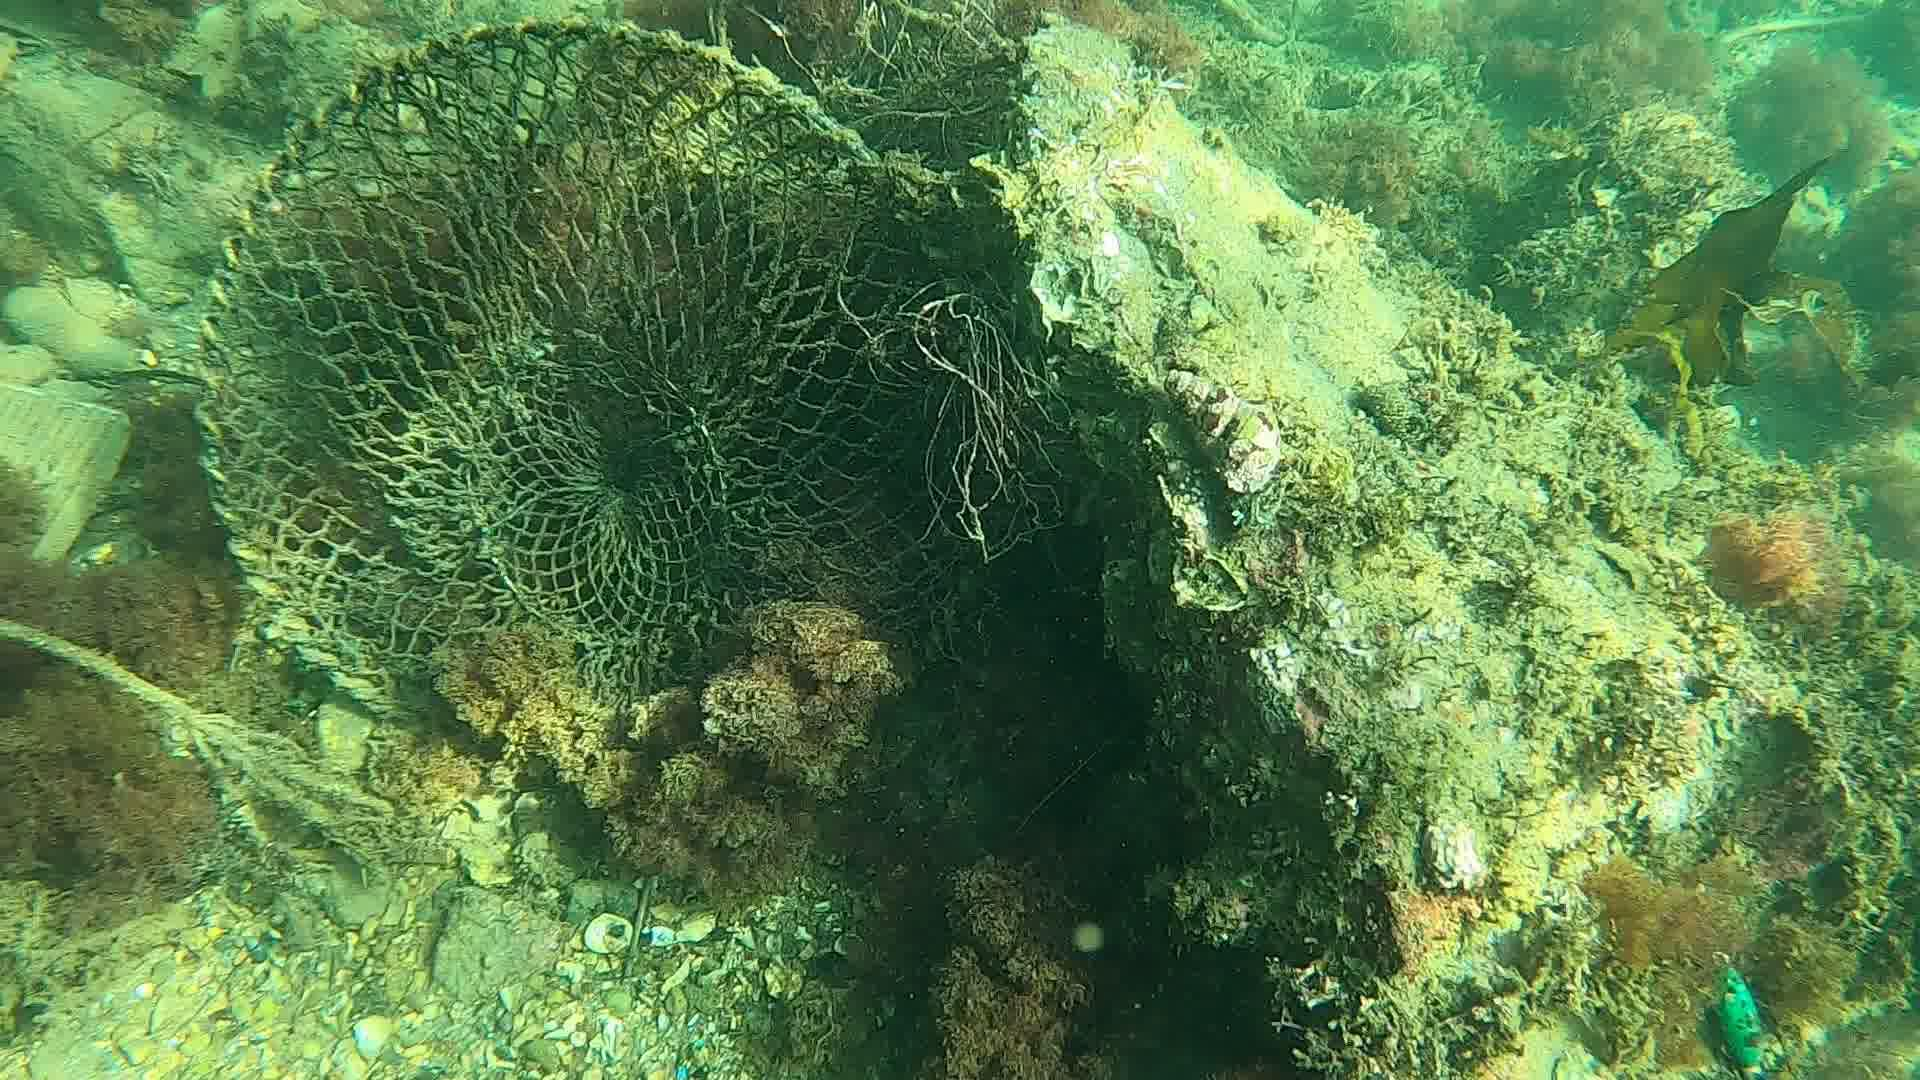circular fish trap: (191, 12, 1022, 737)
